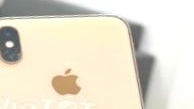scratch: (12, 50, 26, 62), (0, 45, 10, 57)
